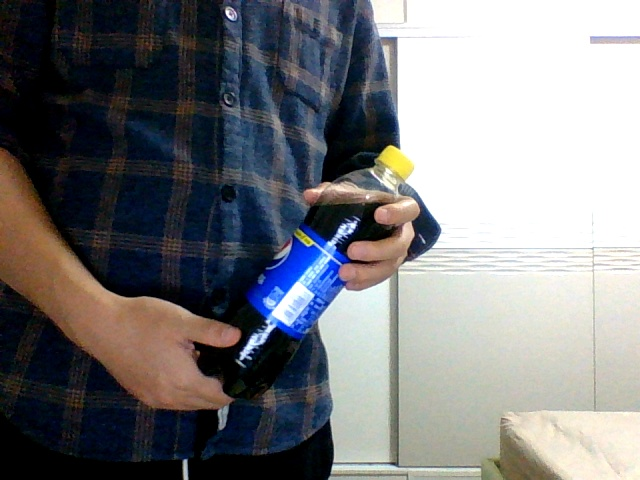Cola: (200, 145, 414, 398)
